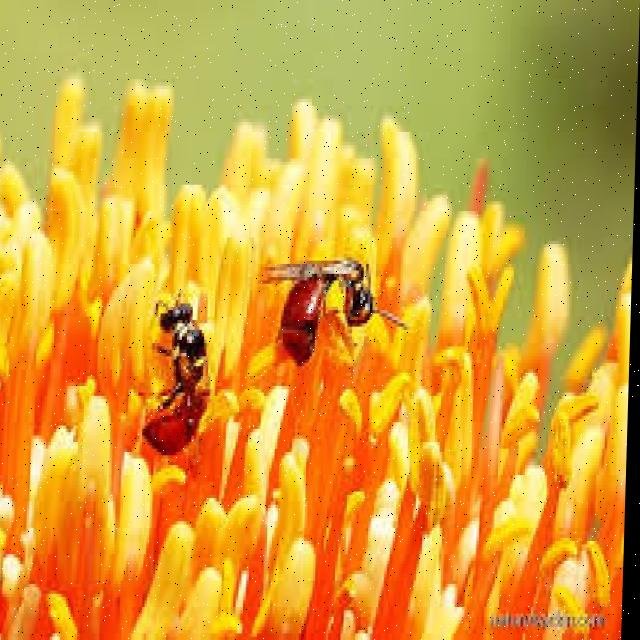Allodapula: (255, 237, 403, 375), (137, 276, 224, 461)
